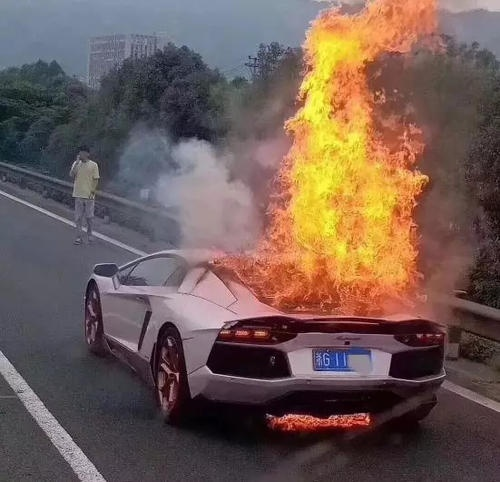fire: (259, 7, 435, 309)
